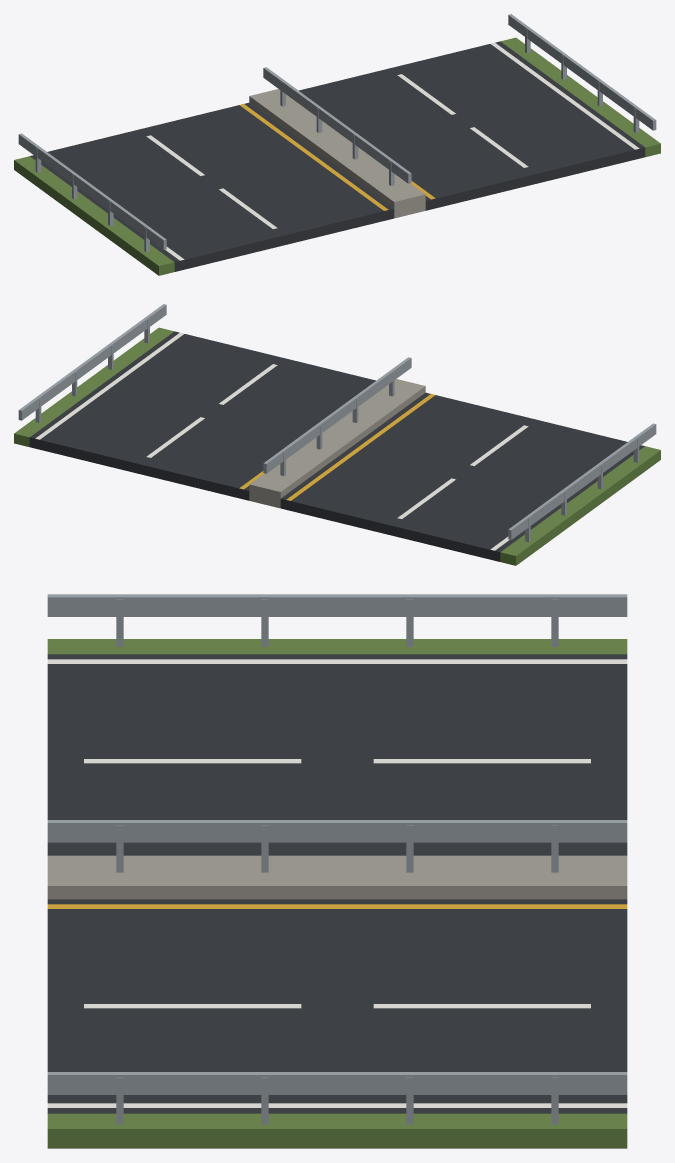
Rendered from Highway_4Lane_Divided_Straight_8m.glb.
3 renders of one model, top to bottom at view 1: azimuth 30°, elevation 25°; view 2: azimuth 150°, elevation 25°; view 3: azimuth 270°, elevation 25°, orthographic. The views are drawn at different scales.
Visible parts, largest first — view 1: Highway_4Lane_Divided_Straight_8m_Asphalt, Highway_4Lane_Divided_Straight_8m_Metal, Highway_4Lane_Divided_Straight_8m_Grass-edge, Highway_4Lane_Divided_Straight_8m_Concrete, Highway_4Lane_Divided_Straight_8m_PaintWhite, Highway_4Lane_Divided_Straight_8m_PaintYellow; view 2: Highway_4Lane_Divided_Straight_8m_Asphalt, Highway_4Lane_Divided_Straight_8m_Metal, Highway_4Lane_Divided_Straight_8m_Grass-edge, Highway_4Lane_Divided_Straight_8m_Concrete, Highway_4Lane_Divided_Straight_8m_PaintWhite, Highway_4Lane_Divided_Straight_8m_PaintYellow; view 3: Highway_4Lane_Divided_Straight_8m_Asphalt, Highway_4Lane_Divided_Straight_8m_Metal, Highway_4Lane_Divided_Straight_8m_Grass-edge, Highway_4Lane_Divided_Straight_8m_Concrete, Highway_4Lane_Divided_Straight_8m_PaintWhite, Highway_4Lane_Divided_Straight_8m_PaintYellow.
Boxes of the visible parts, box(x1,y1,x2,y2) form: Highway_4Lane_Divided_Straight_8m_Asphalt: box(30, 41, 645, 271); Highway_4Lane_Divided_Straight_8m_Metal: box(18, 14, 656, 252); Highway_4Lane_Divided_Straight_8m_Grass-edge: box(14, 37, 660, 275); Highway_4Lane_Divided_Straight_8m_Concrete: box(249, 89, 425, 218); Highway_4Lane_Divided_Straight_8m_PaintWhite: box(146, 42, 639, 260); Highway_4Lane_Divided_Straight_8m_PaintYellow: box(239, 104, 435, 210); Highway_4Lane_Divided_Straight_8m_Asphalt: box(29, 331, 644, 561); Highway_4Lane_Divided_Straight_8m_Metal: box(18, 304, 656, 542); Highway_4Lane_Divided_Straight_8m_Grass-edge: box(14, 327, 660, 565); Highway_4Lane_Divided_Straight_8m_Concrete: box(249, 379, 425, 508); Highway_4Lane_Divided_Straight_8m_PaintWhite: box(35, 332, 528, 550); Highway_4Lane_Divided_Straight_8m_PaintYellow: box(239, 394, 435, 500); Highway_4Lane_Divided_Straight_8m_Asphalt: box(47, 654, 627, 1113); Highway_4Lane_Divided_Straight_8m_Metal: box(47, 594, 627, 1124); Highway_4Lane_Divided_Straight_8m_Grass-edge: box(47, 639, 627, 1148); Highway_4Lane_Divided_Straight_8m_Concrete: box(47, 855, 627, 899); Highway_4Lane_Divided_Straight_8m_PaintWhite: box(47, 659, 627, 1107); Highway_4Lane_Divided_Straight_8m_PaintYellow: box(47, 904, 627, 908).
Bounding box in the file's own units: 16 × 1.25 × 8.
